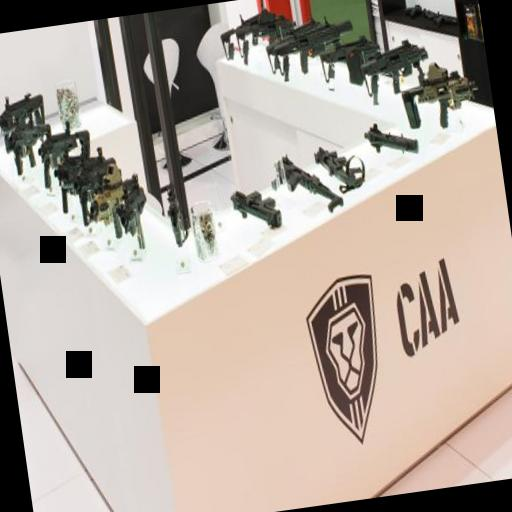Handgun: (360, 116, 418, 163)
